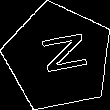N_W: (30, 33, 87, 82)
